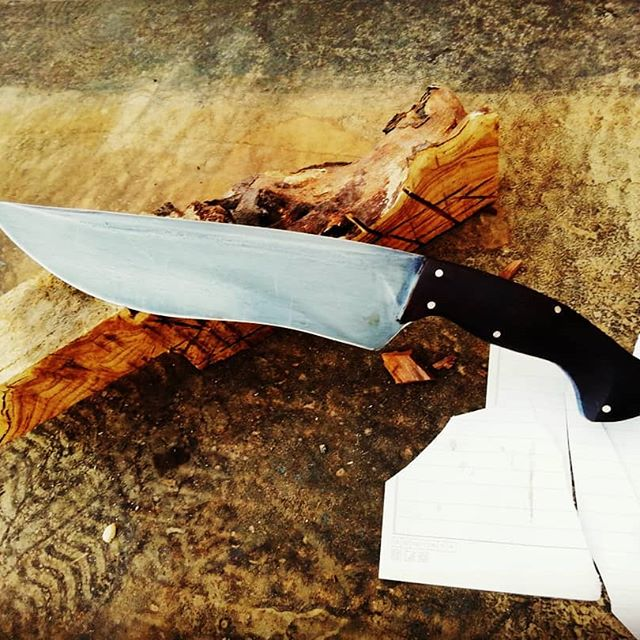knife: (1, 201, 640, 421)
